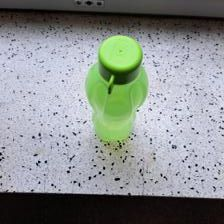bottle: (84, 35, 150, 146)
